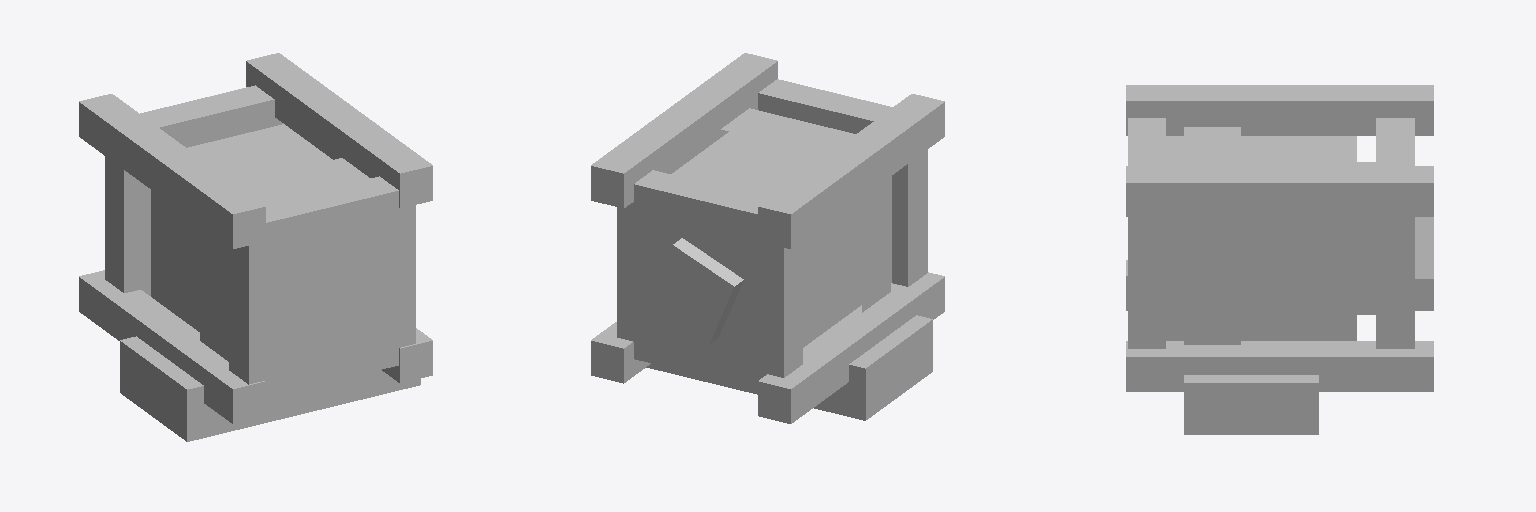
The model's file is motor_item.obj.
The picture shows the model from 3 angles: view 1: azimuth 30°, elevation 25°; view 2: azimuth 150°, elevation 25°; view 3: azimuth 270°, elevation 25°; orthographic projection.
Parts seen in each view (by area): view 1: cube; view 2: cube, Axis; view 3: cube, Axis.
Part boxes in pixels (x1,y1,x2,y2): cube: (79,53,432,441); cube: (591,53,944,423); Axis: (647,238,743,344); cube: (1126,85,1433,434); Axis: (1415,217,1433,278).
Size of the model in its own units: 0.875 by 0.875 by 1.